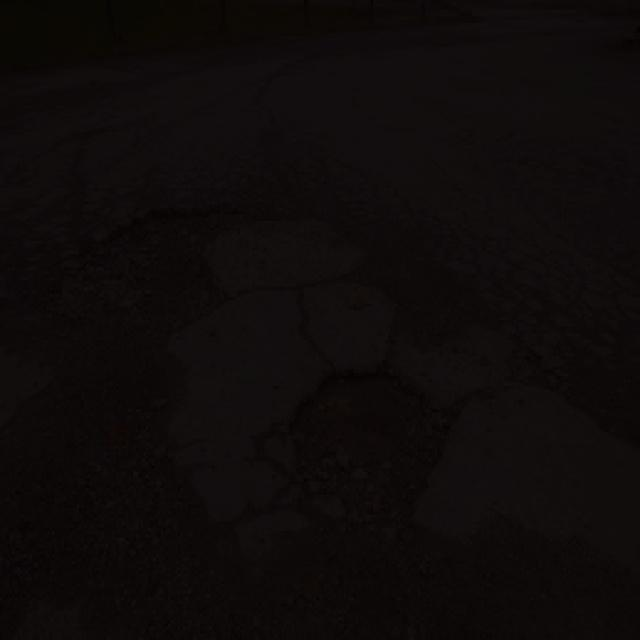Pothole: (281, 360, 443, 521), (74, 194, 214, 328)
